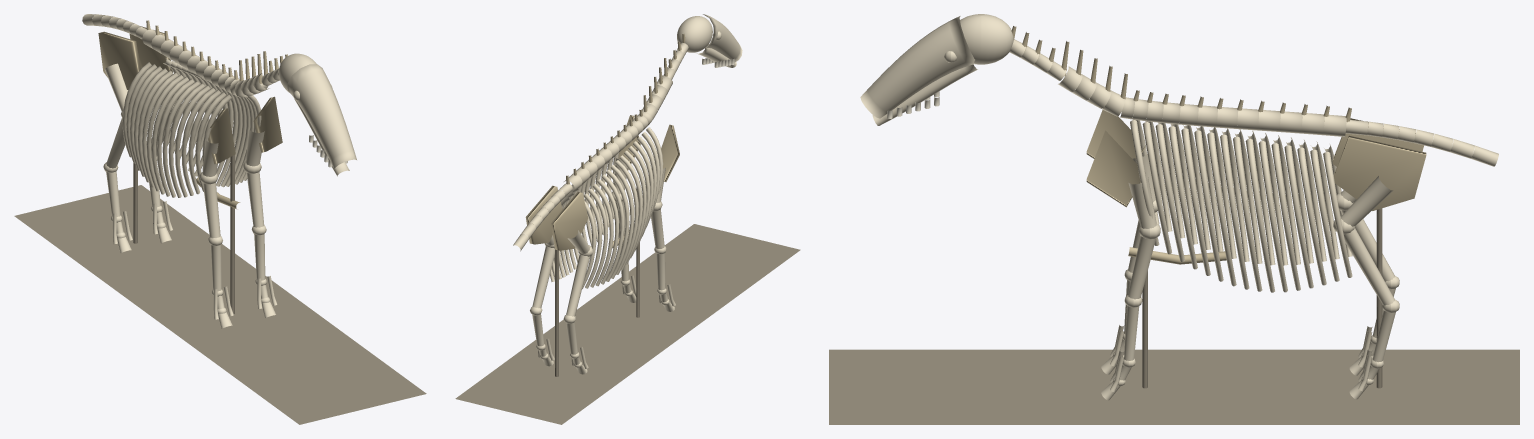
File: hippotherium_skeleton.glb
3 renders of one model, left to right at view 1: azimuth 30°, elevation 25°; view 2: azimuth 150°, elevation 25°; view 3: azimuth 270°, elevation 25°, orthographic. The views are drawn at different scales.
Parts seen in each view (by area): view 1: Mount, Hippotherium skeleton; view 2: Mount, Hippotherium skeleton; view 3: Hippotherium skeleton, Mount.
Part boxes in pixels (<box>): Mount: <box>14,155,426,424</box>; Hippotherium skeleton: <box>82,14,356,328</box>; Mount: <box>455,187,800,424</box>; Hippotherium skeleton: <box>513,14,742,374</box>; Hippotherium skeleton: <box>860,14,1498,400</box>; Mount: <box>829,208,1519,424</box>.
Bounding box in the file's own units: 0.76 × 1.75 × 2.95.
